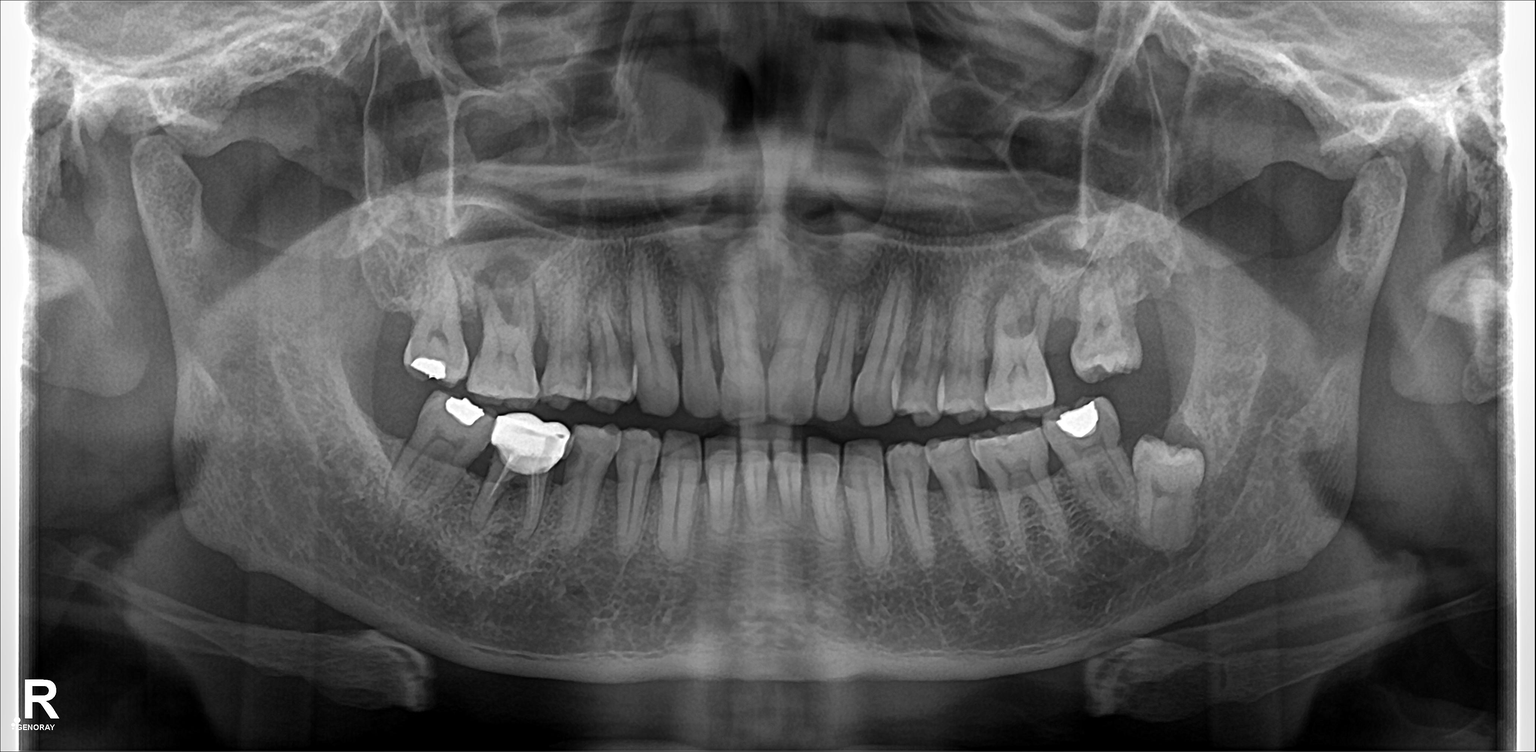Endodontically Treated Tooth: (492, 419, 562, 535)
Impacted Third Molar: (1132, 439, 1210, 539)
Missing Tooth: (1132, 249, 1192, 367), (358, 383, 411, 490), (1035, 289, 1088, 386), (367, 281, 411, 380)
